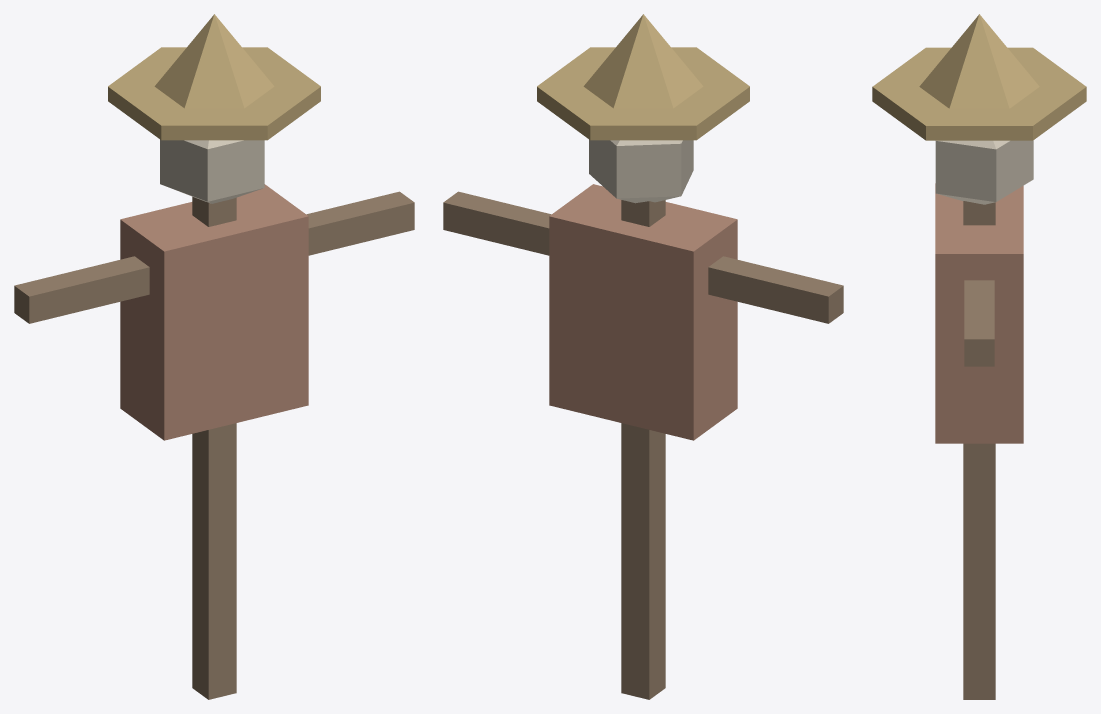
The model's file is scarecrow.glb.
3 renders of one model, left to right at view 1: azimuth 30°, elevation 25°; view 2: azimuth 150°, elevation 25°; view 3: azimuth 270°, elevation 25°, orthographic.
Visible parts, largest first — view 1: scarecrow; view 2: scarecrow; view 3: scarecrow.
Part boxes in pixels (x1,y1,x2,y2): scarecrow: (14,14,414,699); scarecrow: (443,14,843,699); scarecrow: (872,14,1086,699).
Size of the model in its own units: 0.32 by 0.5367 by 0.1533.
